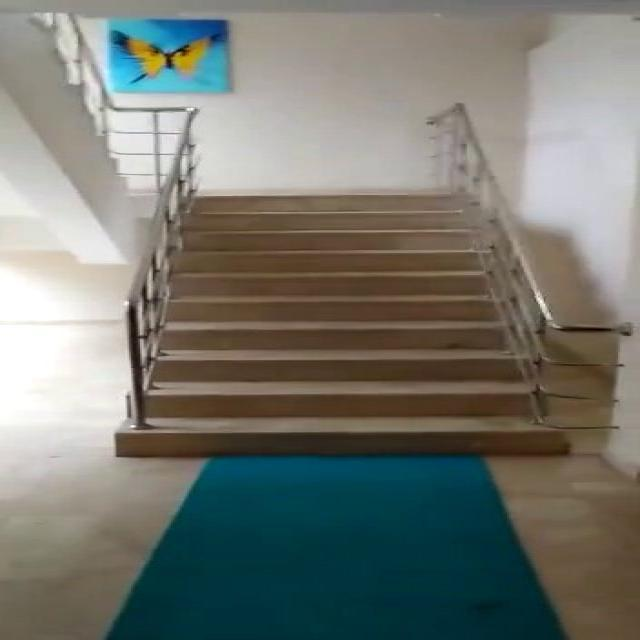stair: (149, 199, 567, 459)
